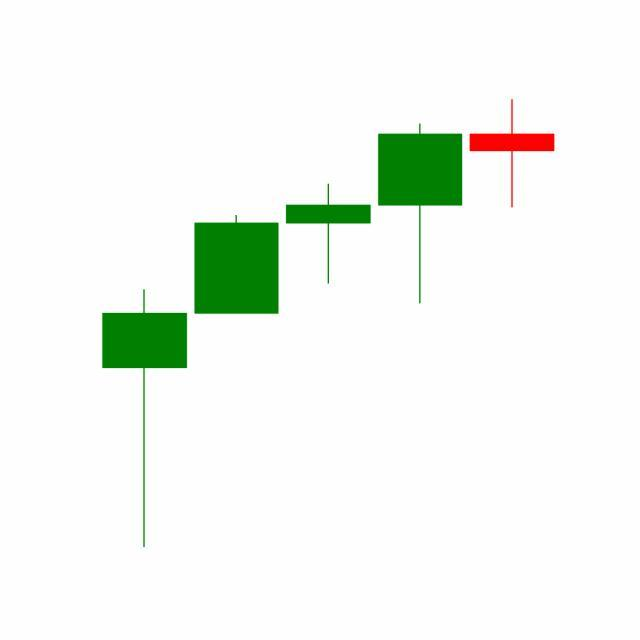Hanging Man: (374, 122, 468, 307)
